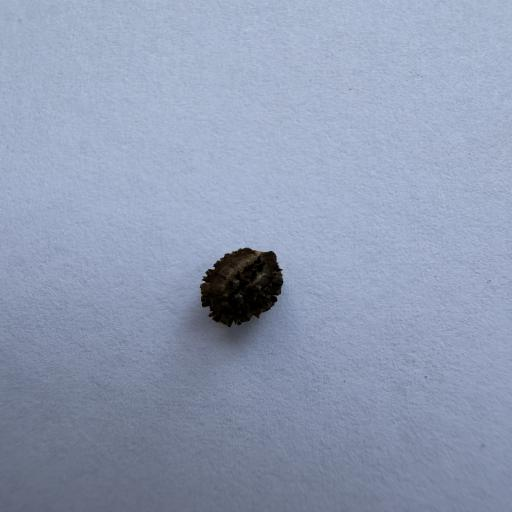papaya_seed: (172, 231, 311, 358)
